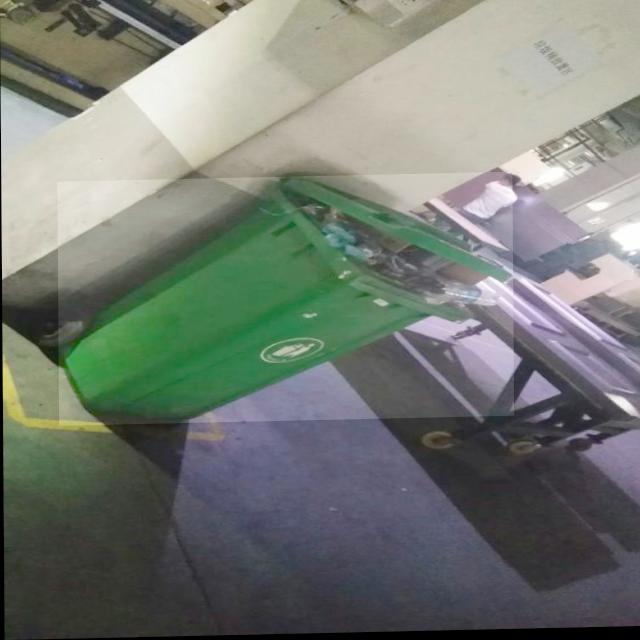overflow: (57, 175, 513, 427)
